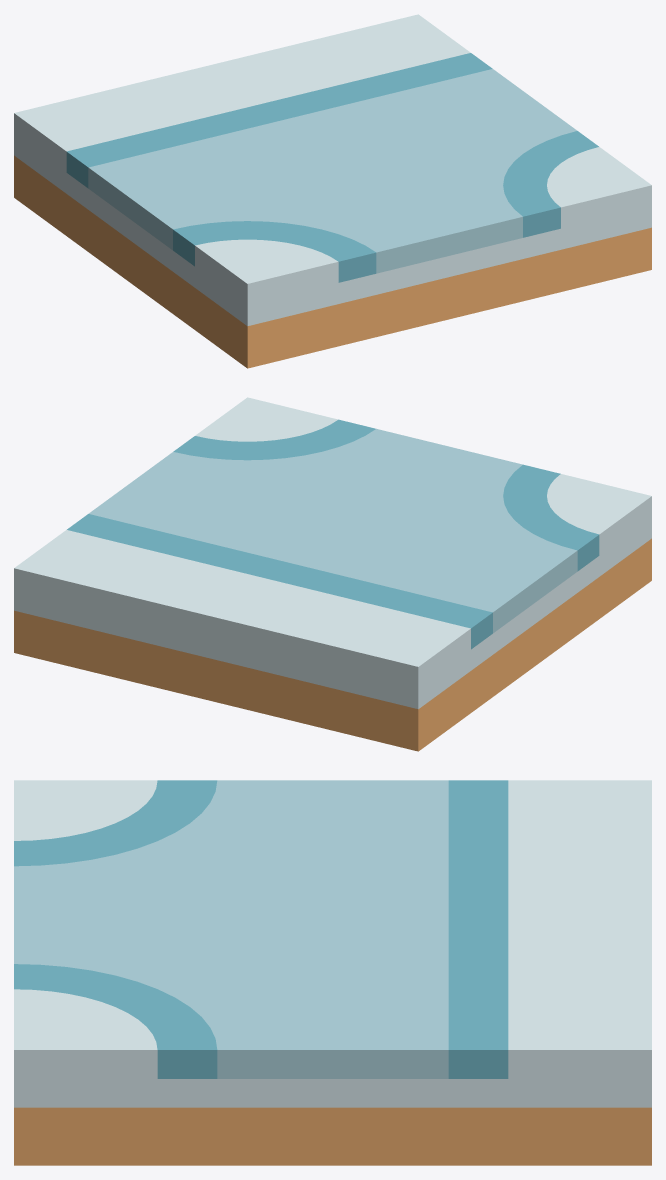
Rendered from snow_tile_split(+).fbx.
3 views of the same model, one above another, from view 1: azimuth 30°, elevation 25°; view 2: azimuth 150°, elevation 25°; view 3: azimuth 270°, elevation 25° (orthographic). The views are drawn at different scales.
Parts seen in each view (by area): view 1: Mesh_2; view 2: Mesh_2; view 3: Mesh_2.
Boxes of the visible parts, <box> form: Mesh_2: <box>14,14,651,368</box>; Mesh_2: <box>14,397,651,751</box>; Mesh_2: <box>14,780,651,1165</box>.
Size of the model in its own units: 100 by 20 by 100.
